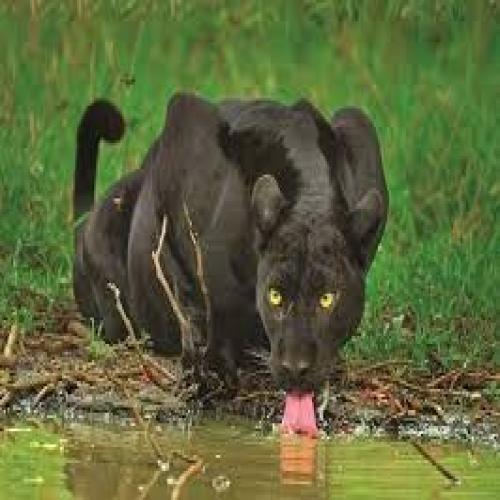panther-endangered: (73, 85, 389, 436)
